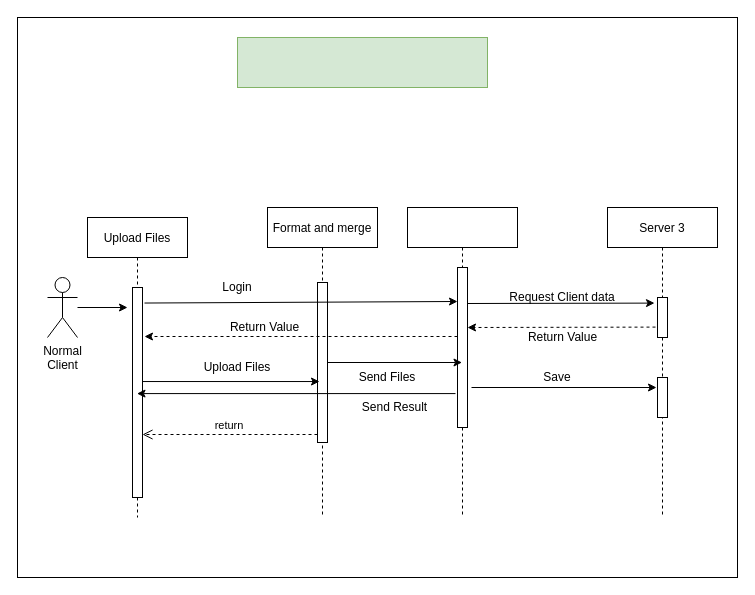
Some shapes in this 755 by 595 pixel diagram are drawn without their labels. Here are the shapes that lost their labels. From the top down, the box of each, then its label:
(236, 36, 488, 88): Sequence Diagram
(406, 206, 518, 518): Server 2
